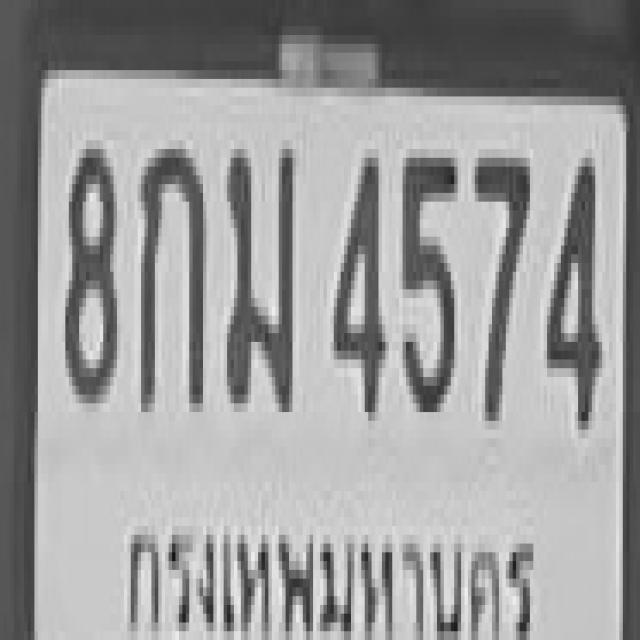10GorGai: (138, 140, 203, 404)
4: (544, 149, 598, 421), (330, 149, 382, 412)
42MorMa: (224, 140, 292, 404)
5: (399, 149, 454, 403)
7: (472, 149, 526, 412)
8: (62, 140, 113, 394)
Bangkok: (117, 495, 543, 640)
